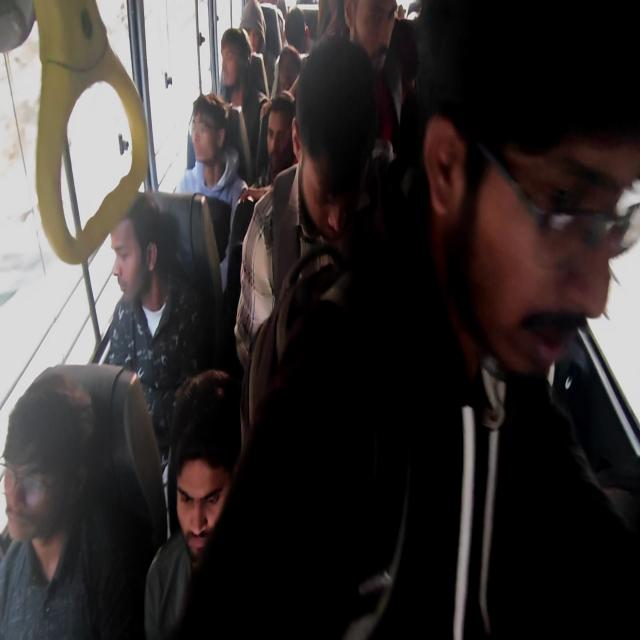person: (432, 32, 619, 354), (2, 414, 96, 640), (306, 67, 386, 265), (167, 407, 241, 556), (115, 204, 160, 336), (200, 100, 240, 212), (348, 0, 406, 74), (269, 96, 301, 171), (222, 28, 251, 108), (244, 4, 272, 40), (278, 42, 298, 79), (286, 4, 304, 44)
